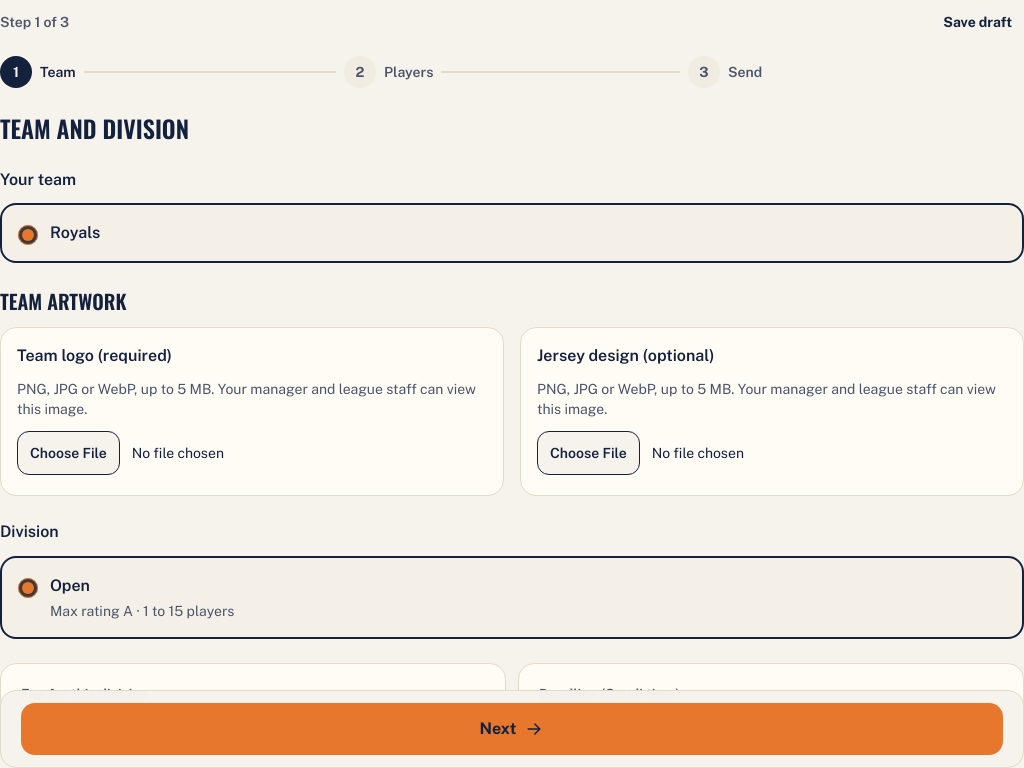
Test: building the roster › does not offer a new player with the name of an existing one
Step 1. Click the button "Next" → (512, 729), box x1=21 y1=703 x2=1003 y2=755
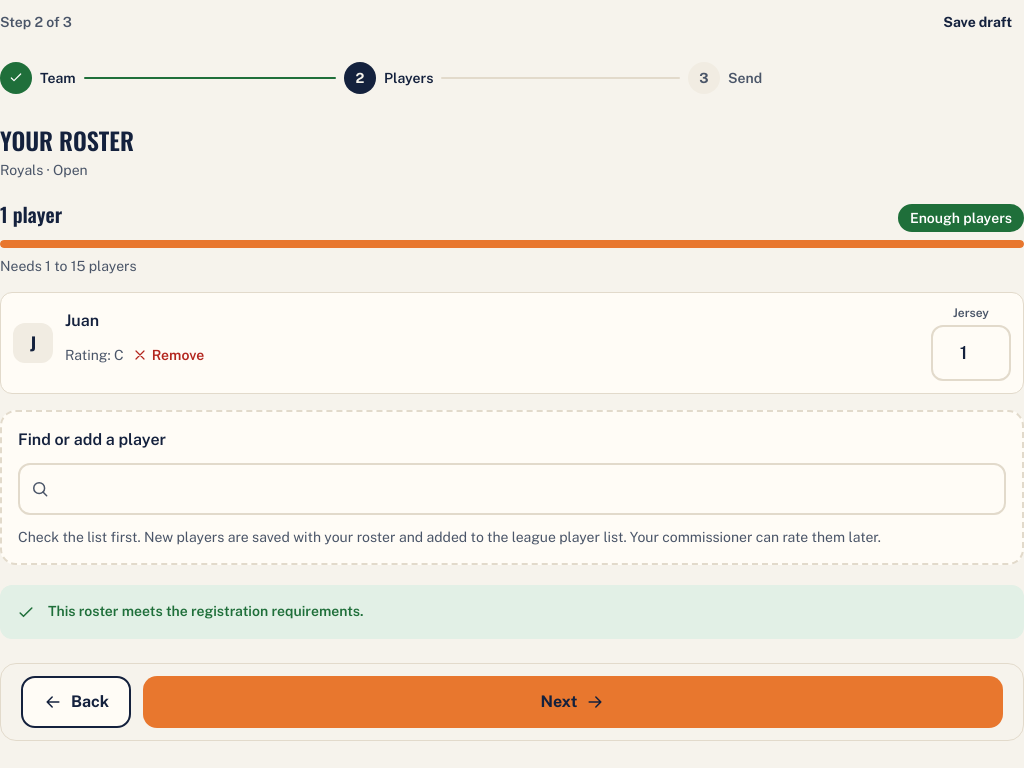
Check: the heading "Your roster" is shown, box x1=0 y1=122 x2=134 y2=158
Step 2. Type " juan " into the search field labelled "Find or add a player" → (512, 489), box x1=18 y1=463 x2=1006 y2=515
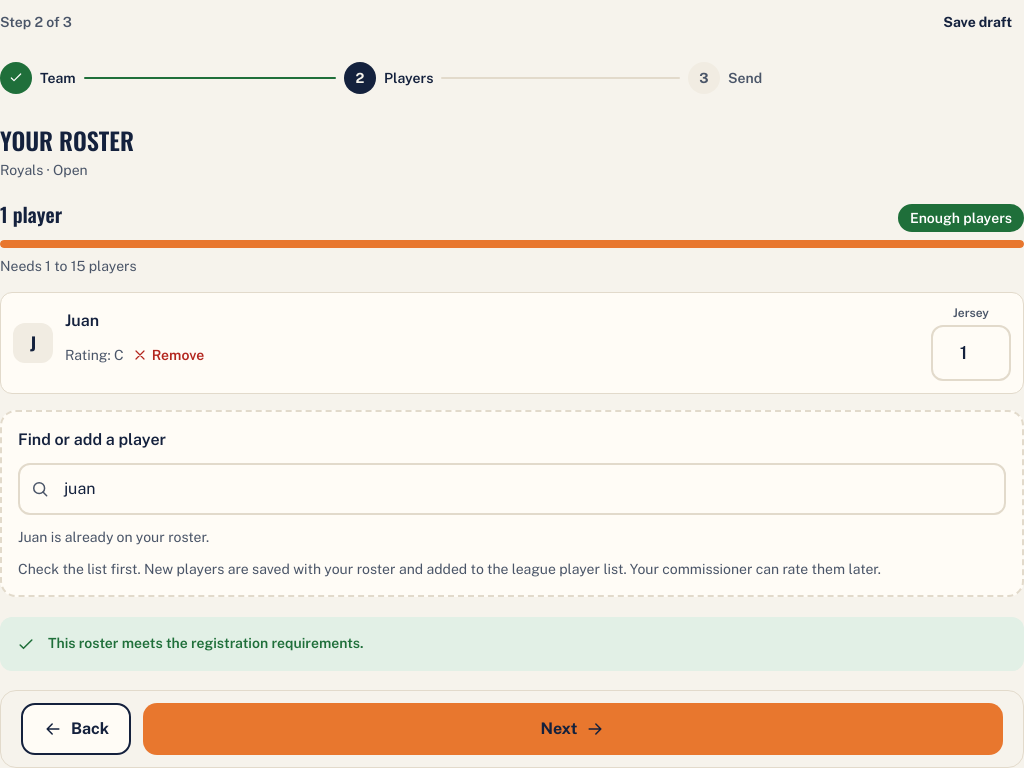
Check: the text "Juan is already on your roster." is shown, box x1=18 y1=529 x2=209 y2=545
